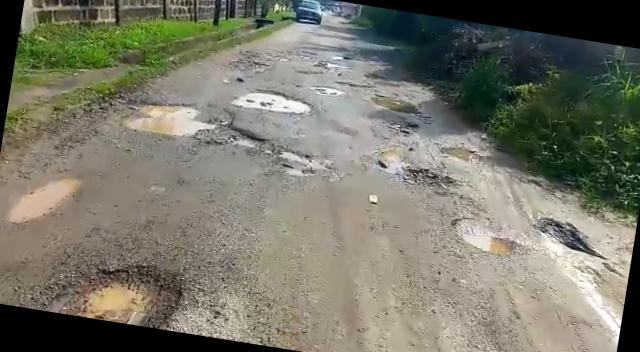pothole: (59, 254, 198, 332), (114, 89, 260, 150), (8, 169, 81, 231), (446, 208, 526, 260), (530, 214, 600, 258), (232, 82, 316, 118), (393, 160, 463, 194), (273, 148, 335, 183), (440, 142, 483, 164), (311, 82, 346, 96)
